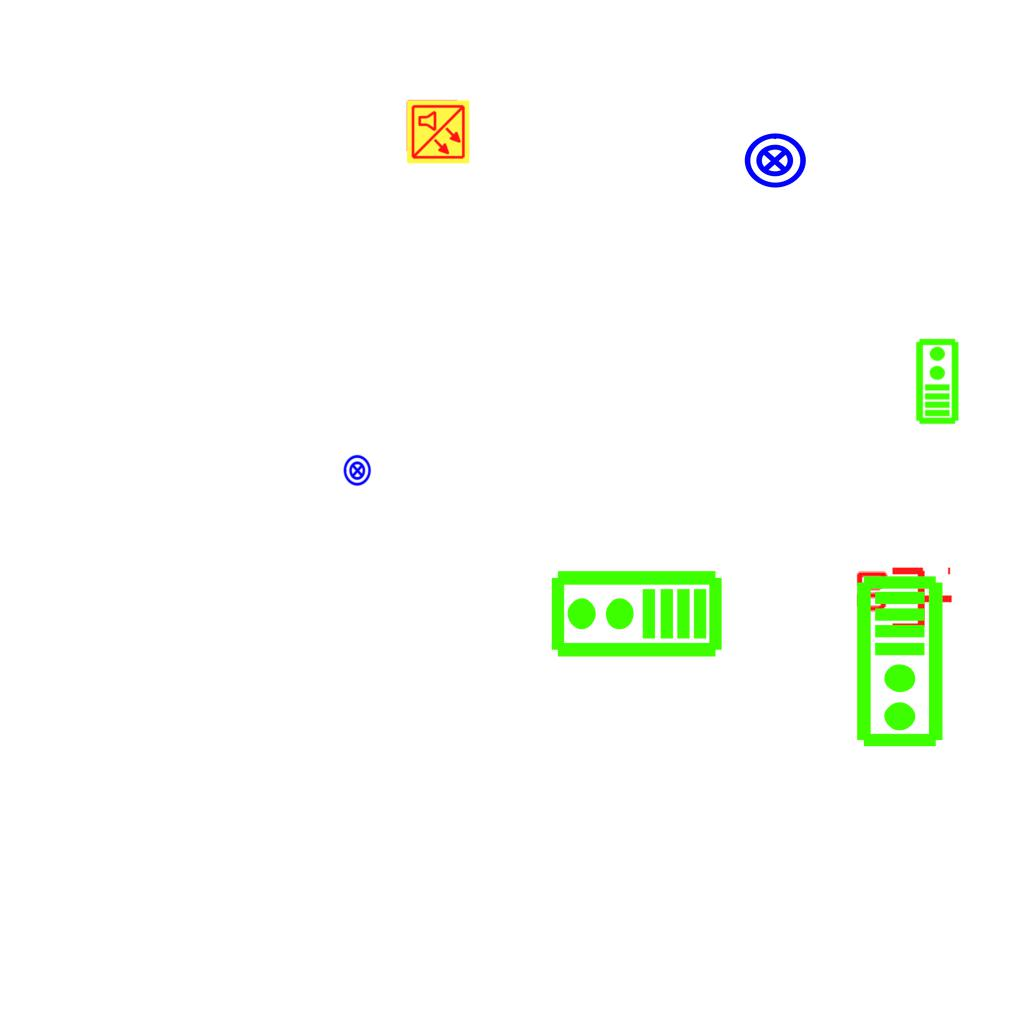Datenanschluss_zweifach: (852, 566, 955, 635)
Gegensprechanlage_mit_Video: (548, 568, 724, 663), (854, 574, 949, 750), (913, 337, 960, 425)
OKW_Multisensormelder_(Kombination_optischer_Rauch-Kahlenmonoxid_Waerme-Melder): (405, 99, 471, 165)
Taster_beleuchtet: (742, 128, 808, 194), (341, 454, 374, 487)
